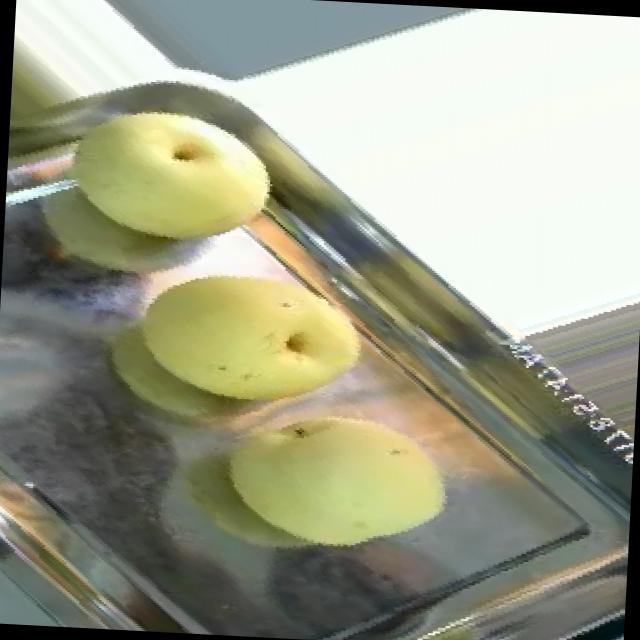Fruit: (192, 334, 484, 586), (15, 79, 302, 278)
